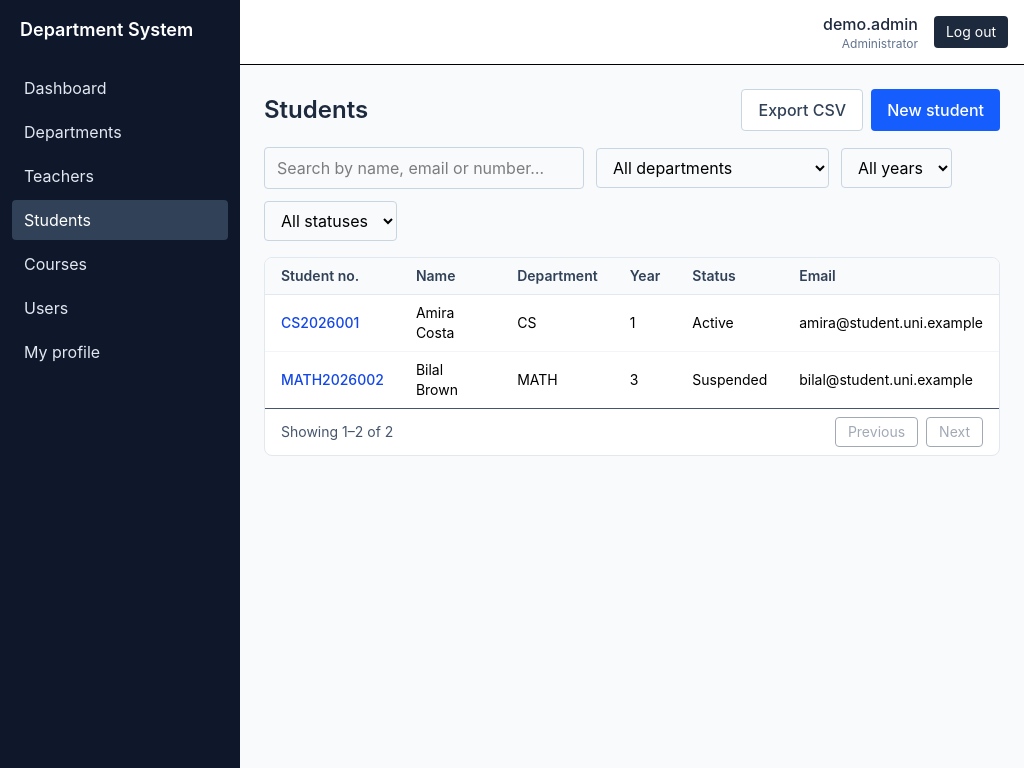
Test case: FR-4.1–4.3 create (with every FR-4.2 field and an optional account) › shows the 409 "Student number 'CS2026050' already exists" under its field
Click the button "New student" at (936, 110), box top-left (871, 89), bottom-right (1000, 131)
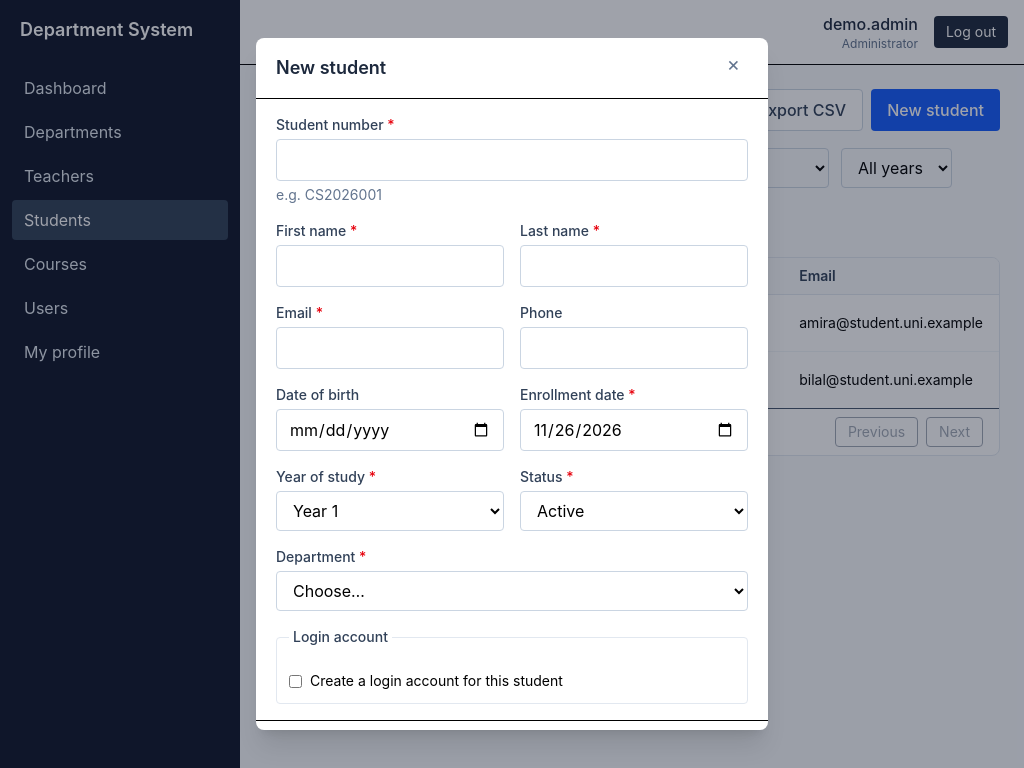
Type "CS2026050" into the field labelled "Student number *" at (512, 160), box top-left (276, 139), bottom-right (748, 181)
Type "Nina" into the field labelled "First name *" at (390, 266), box top-left (276, 245), bottom-right (504, 287)
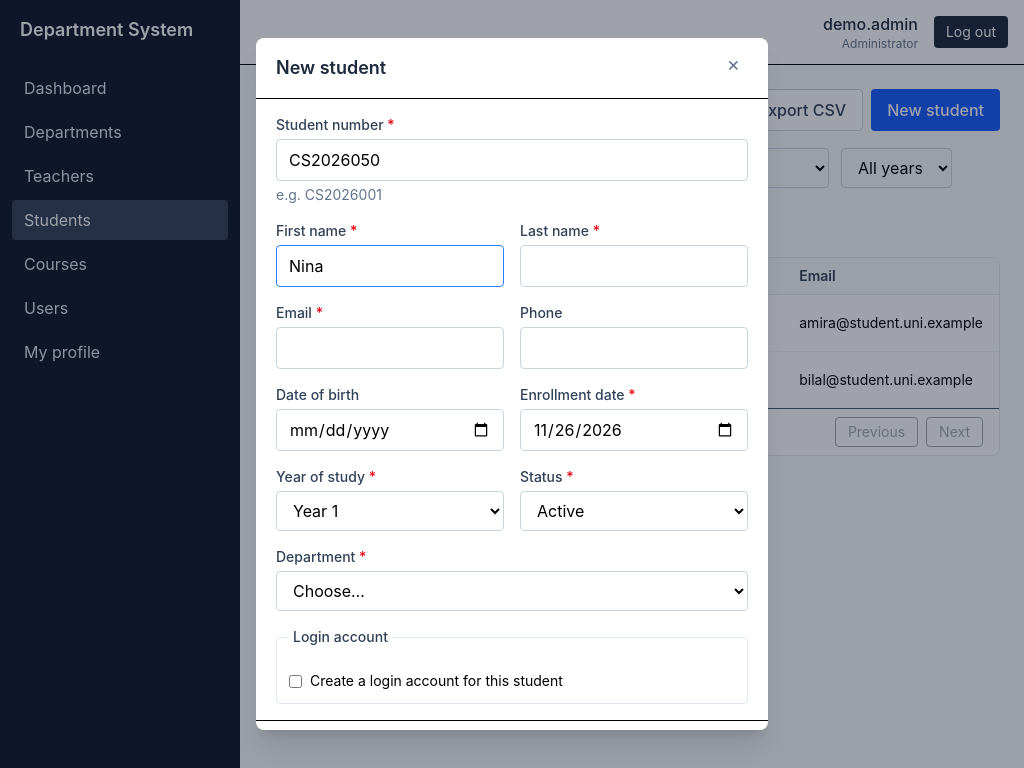
Type "New" into the field labelled "Last name *" at (634, 266), box top-left (520, 245), bottom-right (748, 287)
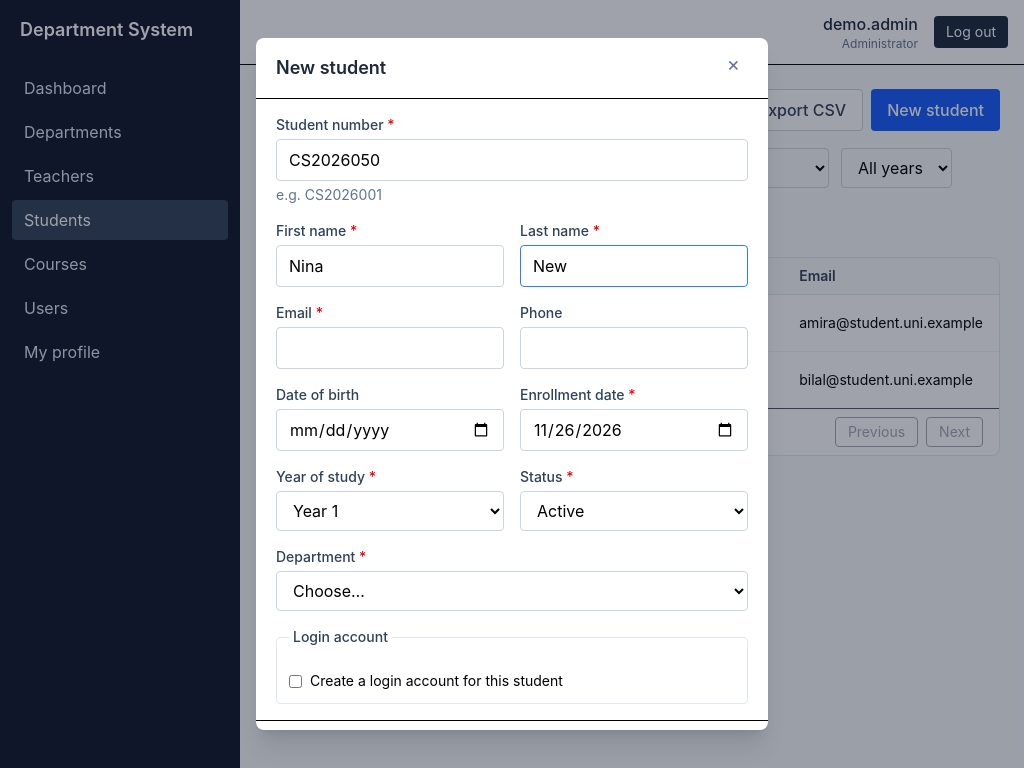
Type "nina@student.uni.example" into the field labelled "Email *" at (390, 348), box top-left (276, 327), bottom-right (504, 369)
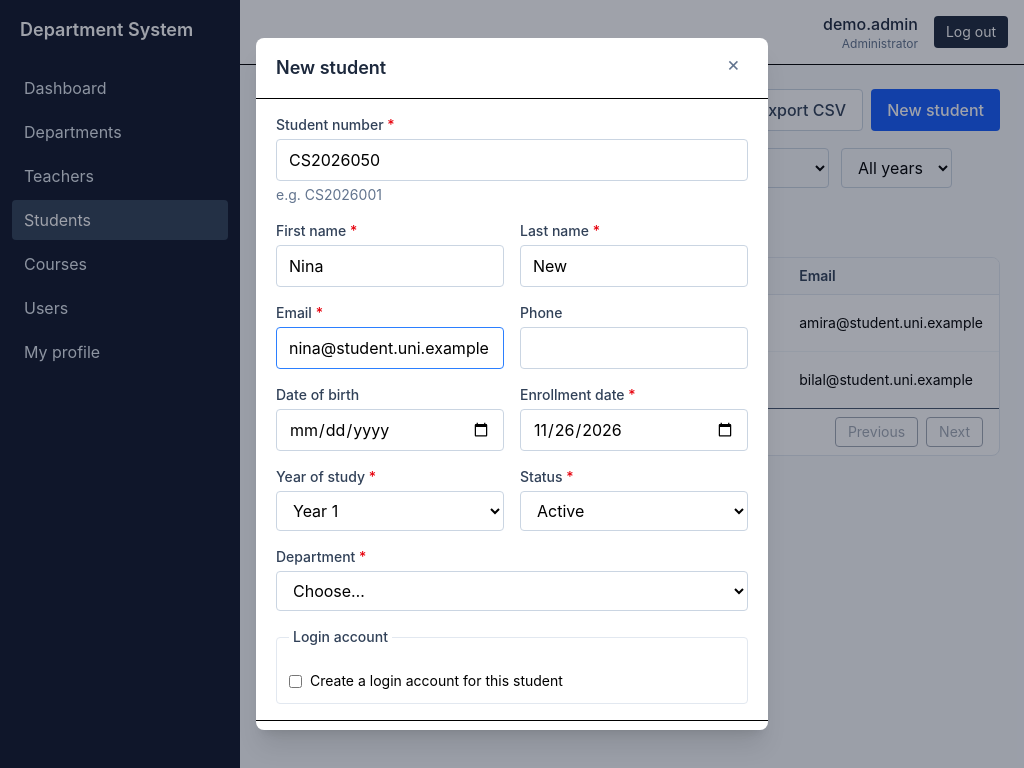
Select "CS — Computer Science" in the dropdown labelled "Department *" at (512, 591), box top-left (276, 571), bottom-right (748, 611)
(page scrolled)
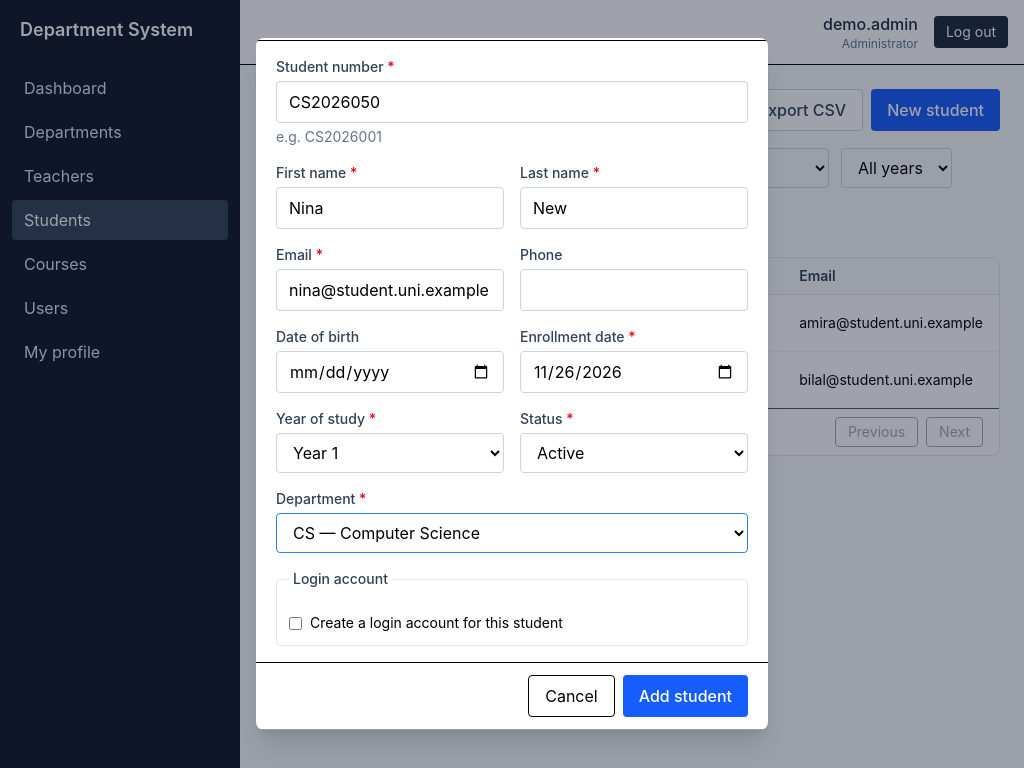
Click the button "Add student" at (685, 696), box top-left (623, 675), bottom-right (748, 717)
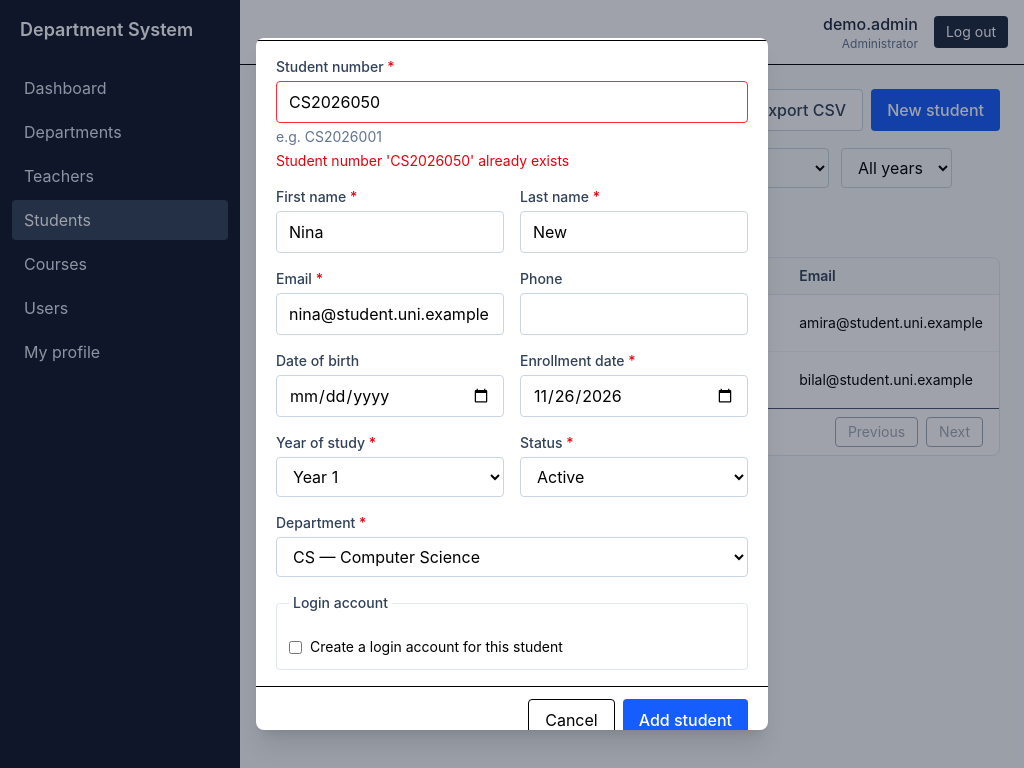
expect the text "Student number 'CS2026050' already exists" is shown: met, box top-left (276, 152), bottom-right (569, 169)
